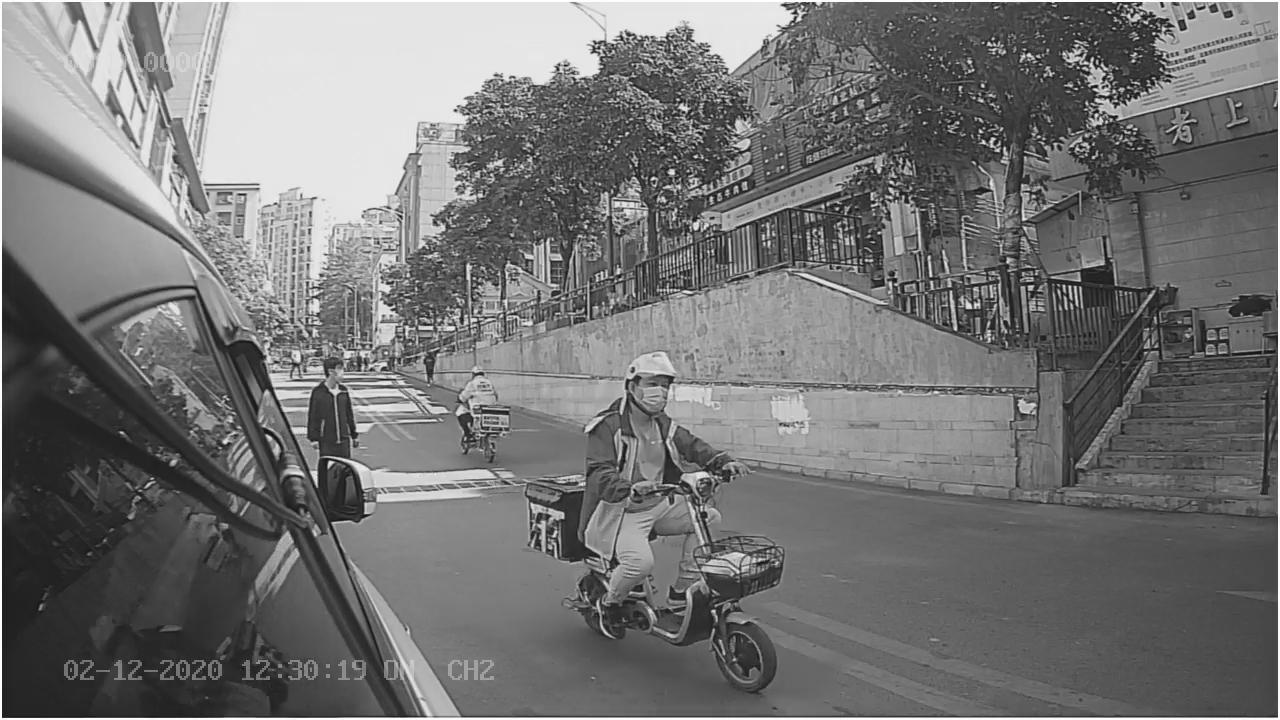person: (583, 344, 719, 499)
